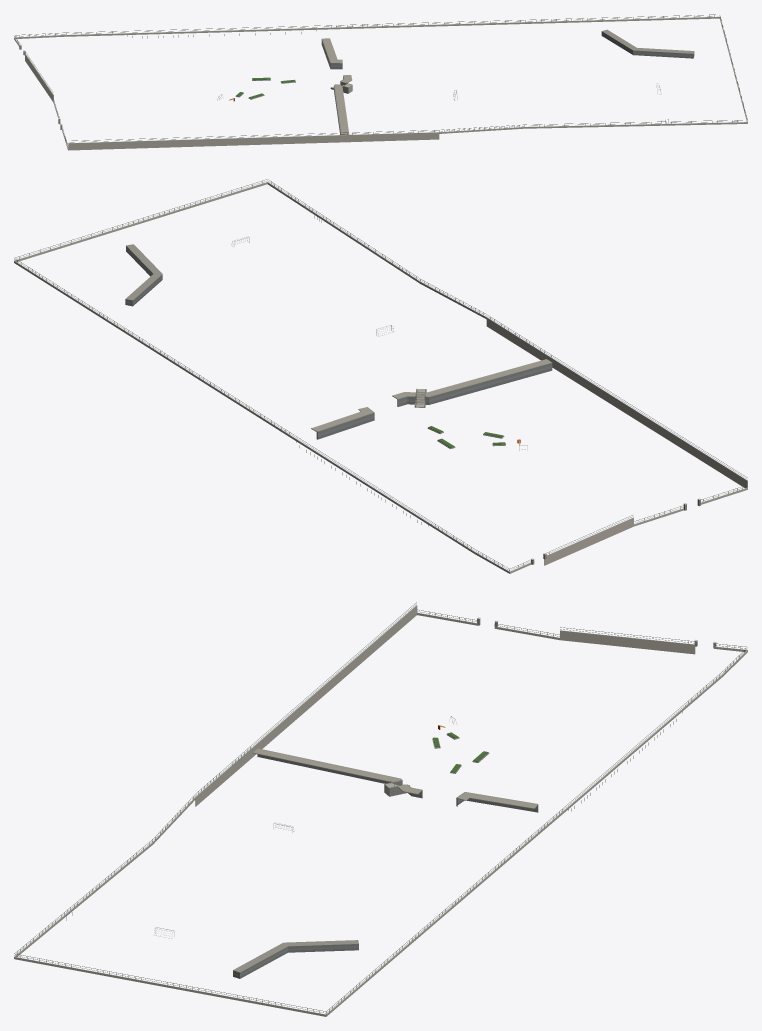
3 views of the same model, one above another, from view 1: azimuth 30°, elevation 25°; view 2: azimuth 150°, elevation 25°; view 3: azimuth 270°, elevation 25° (orthographic). The views are drawn at different scales.
Parts seen in each view (by area): view 1: site-wall-concrete, site-fence, site-wall-cap-paving, site-wall-coping-paving-stone, site-wall-stone-rubble-a, site-wall-stone-rubble-b, site-wall-stone-rubble-c; view 2: site-wall-concrete, site-fence, site-wall-cap-paving, site-wall-coping-paving-stone, site-wall-stone-rubble-b, site-wall-stone-rubble-c, site-wall-stone-rubble-a; view 3: site-wall-concrete, site-fence, site-wall-cap-paving, site-wall-stone-rubble-a, site-wall-coping-paving-stone.
Part boxes in pixels (x1,y1,x2,y2): site-wall-concrete: (14, 16, 747, 150); site-fence: (14, 14, 747, 144); site-wall-cap-paving: (323, 38, 352, 134); site-wall-coping-paving-stone: (322, 29, 694, 134); site-wall-stone-rubble-a: (321, 34, 694, 134); site-wall-stone-rubble-b: (321, 33, 694, 134); site-wall-stone-rubble-c: (321, 31, 694, 134); site-wall-concrete: (14, 182, 747, 573); site-fence: (14, 179, 747, 571); site-wall-cap-paving: (311, 359, 551, 431); site-wall-coping-paving-stone: (125, 244, 552, 431); site-wall-stone-rubble-b: (125, 248, 552, 439); site-wall-stone-rubble-c: (125, 246, 552, 434); site-wall-stone-rubble-a: (125, 250, 552, 439); site-wall-concrete: (14, 605, 747, 1016); site-fence: (14, 602, 747, 1014); site-wall-cap-paving: (253, 749, 537, 808); site-wall-stone-rubble-a: (233, 754, 537, 978); site-wall-coping-paving-stone: (233, 748, 538, 972).
Size of the model in its own units: 349 by 5.9 by 265.
